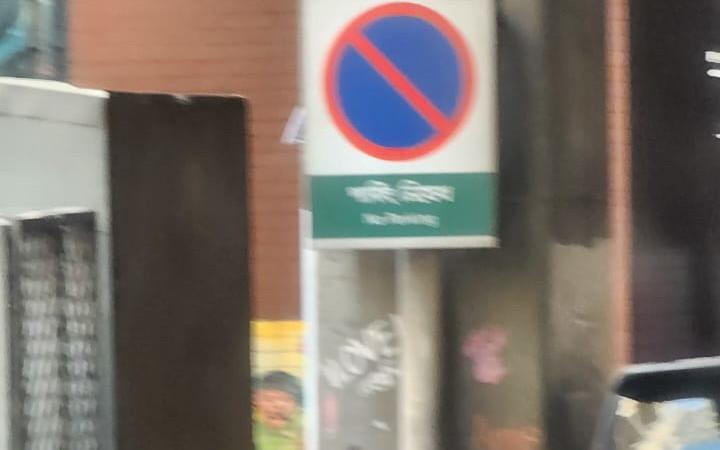No Parking: (301, 0, 496, 248)
